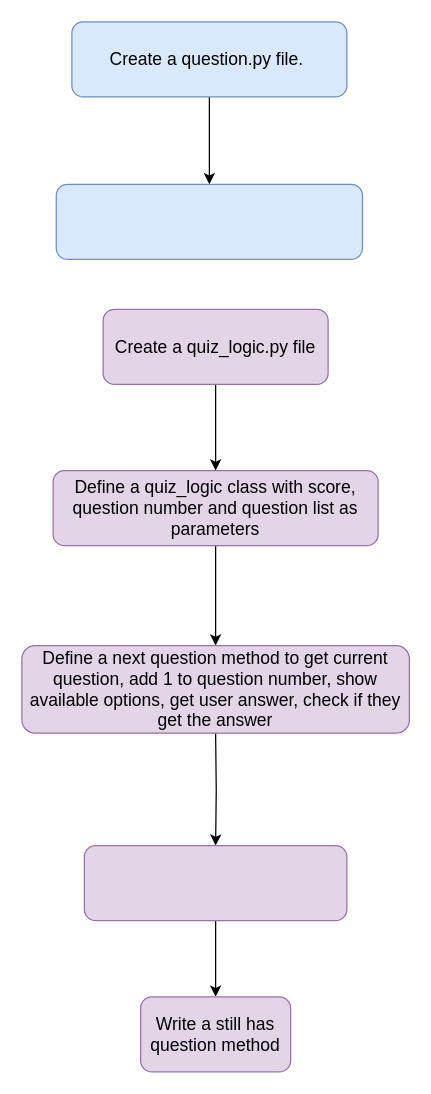
Some shapes in this 431 by 1094 pixel diagram are drawn without their labels. The shapes that lost their labels are listed below. From the top down, each one's box as (x1, y1, x2, y2) in pixels, then its label:
(55, 183, 362, 259): Write a question class with text, answer and choices parameters
(83, 844, 347, 921): Write a check answer method
